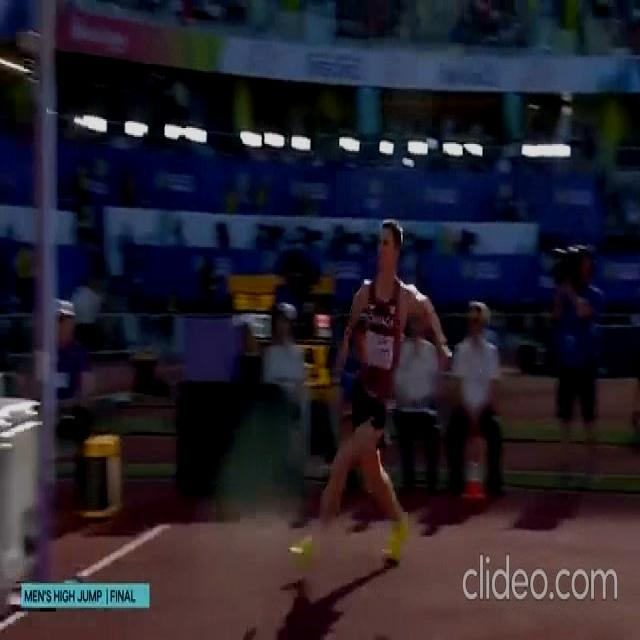run: (290, 218, 450, 560)
